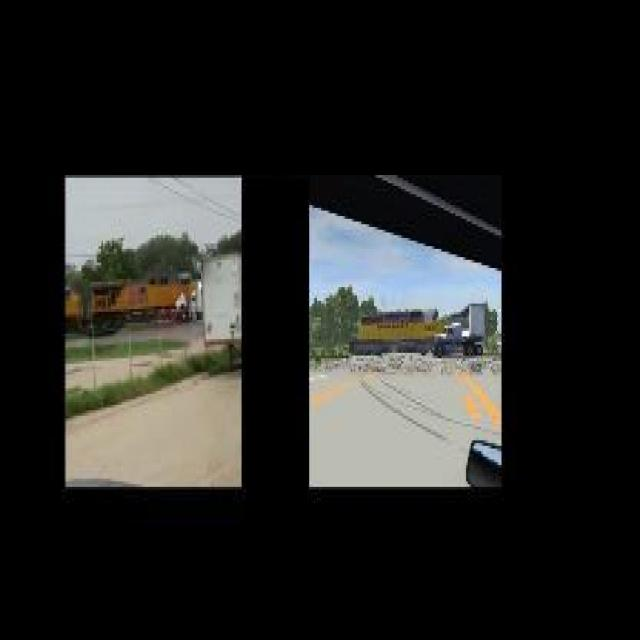accident: (346, 296, 488, 358), (68, 268, 203, 323)
